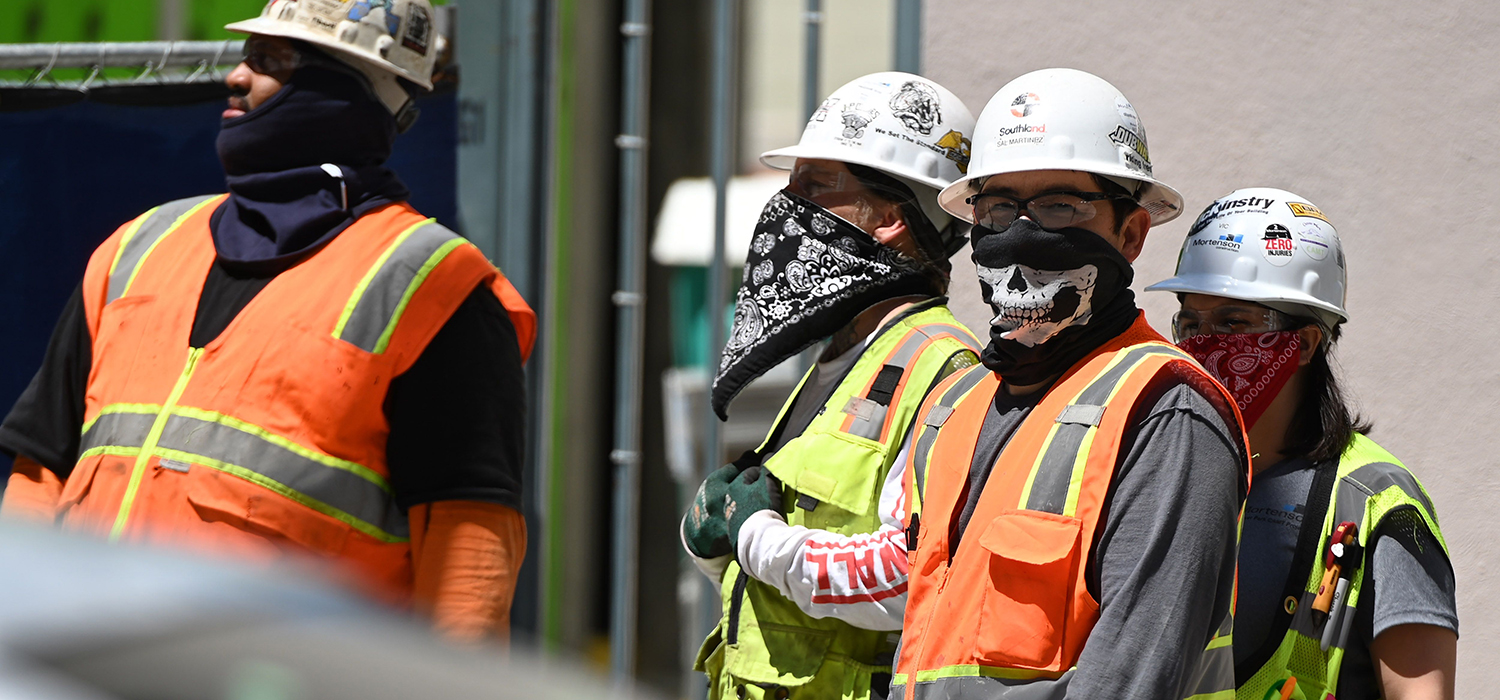Safety Helmet: (948, 43, 1184, 355), (1149, 159, 1363, 420), (182, 1, 481, 187), (756, 56, 975, 307)
